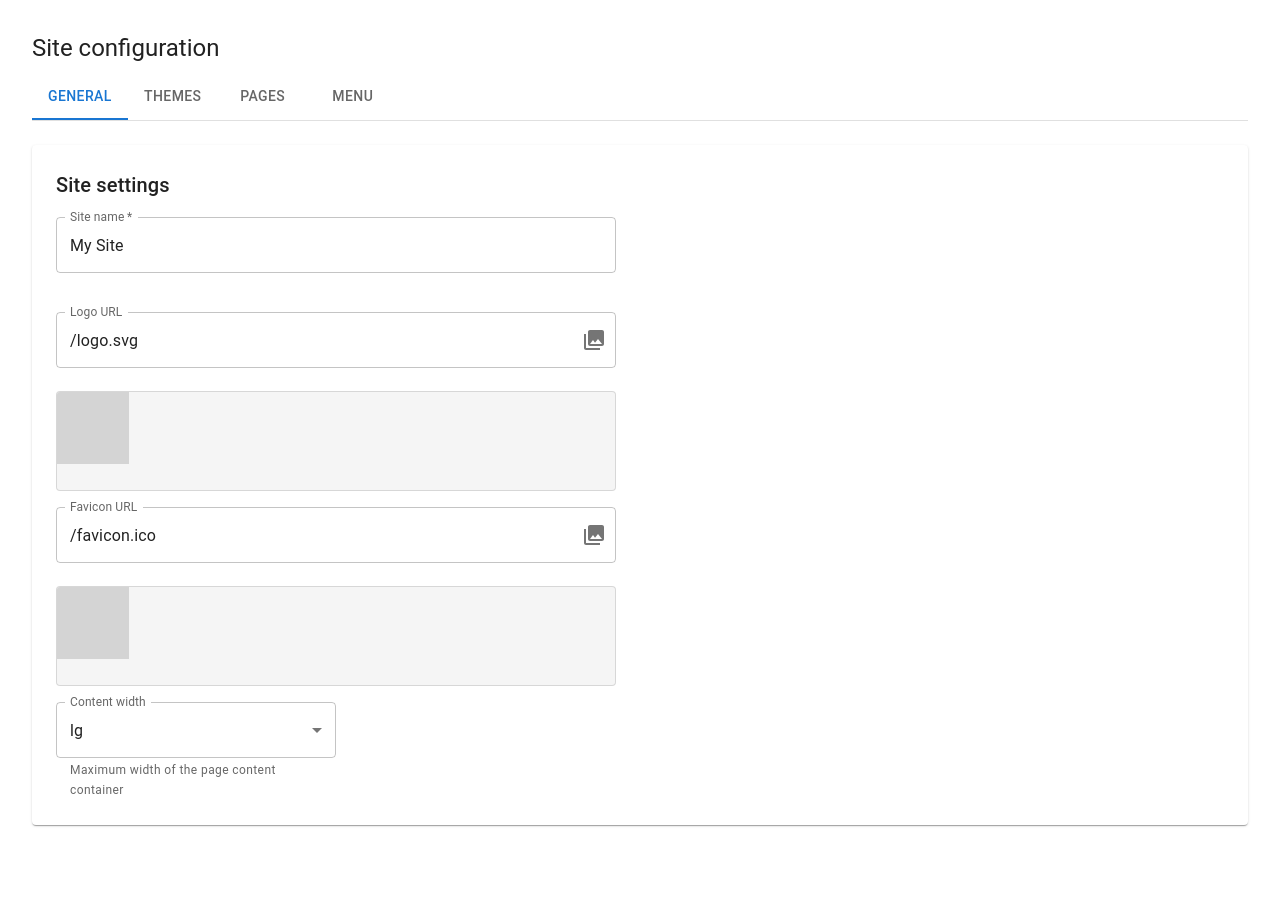
Test: SiteConfigPage › auto-saves an edited field via updateSiteSettings, reporting it on the indicator
Replace the text in the field labelled "Site name *" with "New Name" at (336, 245), box [56,217,616,273]
Wait 850 ms
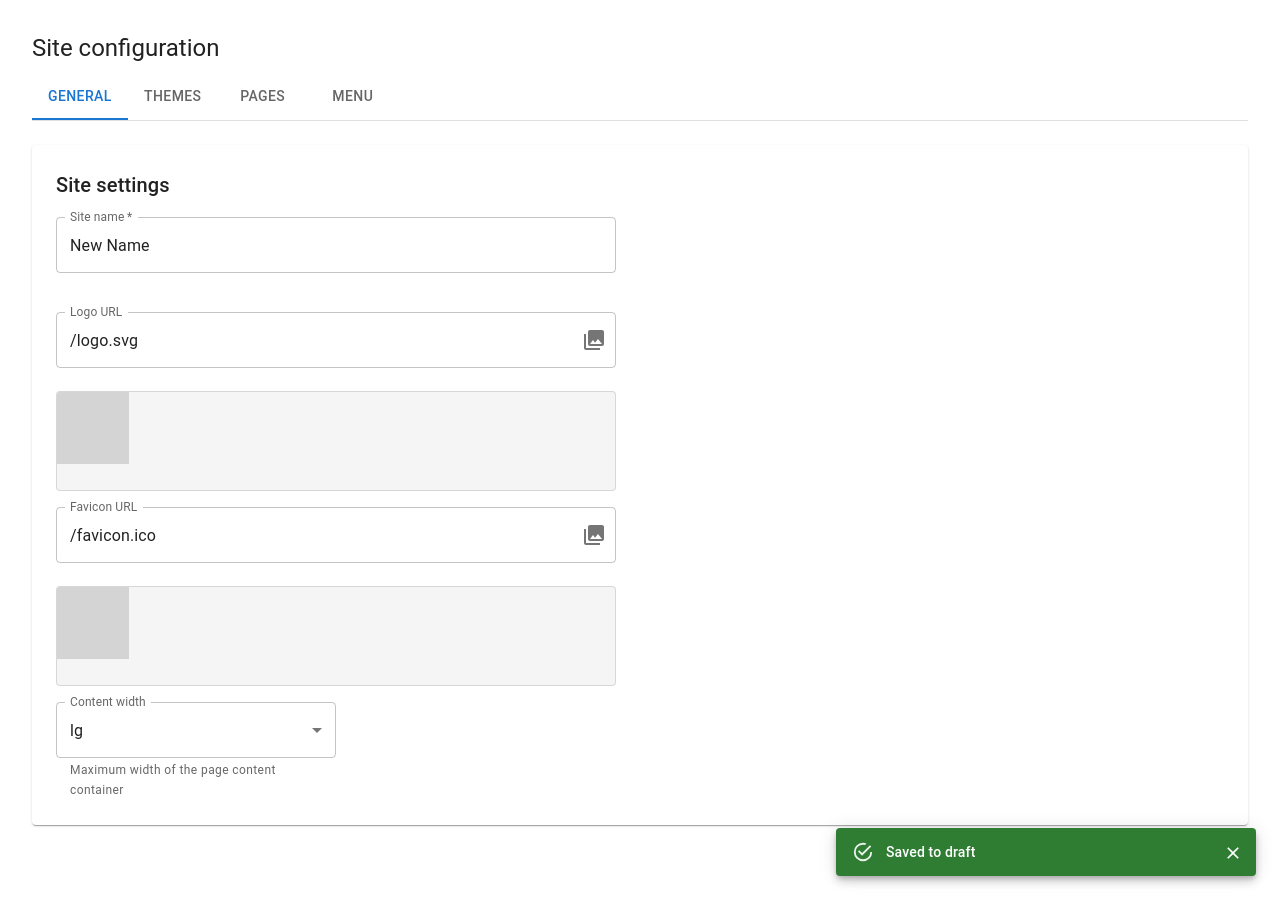
Result: the text "Saved to draft" is shown at [886,844,976,860]
